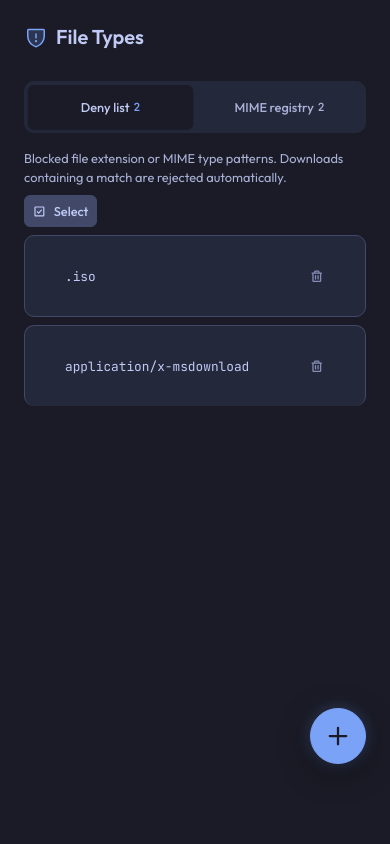
Scenario: FileTypesPage › opens the MIME registry tab add dialog from the floating button
Click the tab "MIME registry 2". click: [280, 107]
box: top-left (197, 85), bottom-right (362, 129)
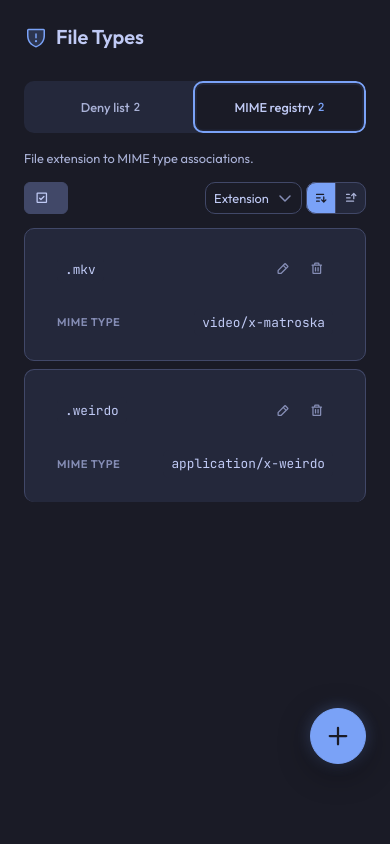
Click the button named "Add Mapping". click: [338, 736]
box: top-left (310, 708), bottom-right (366, 764)
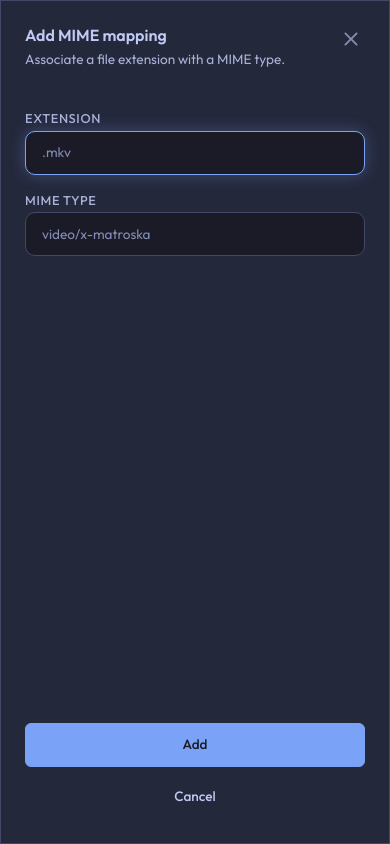
Now the dialog "Add MIME mapping" is shown
